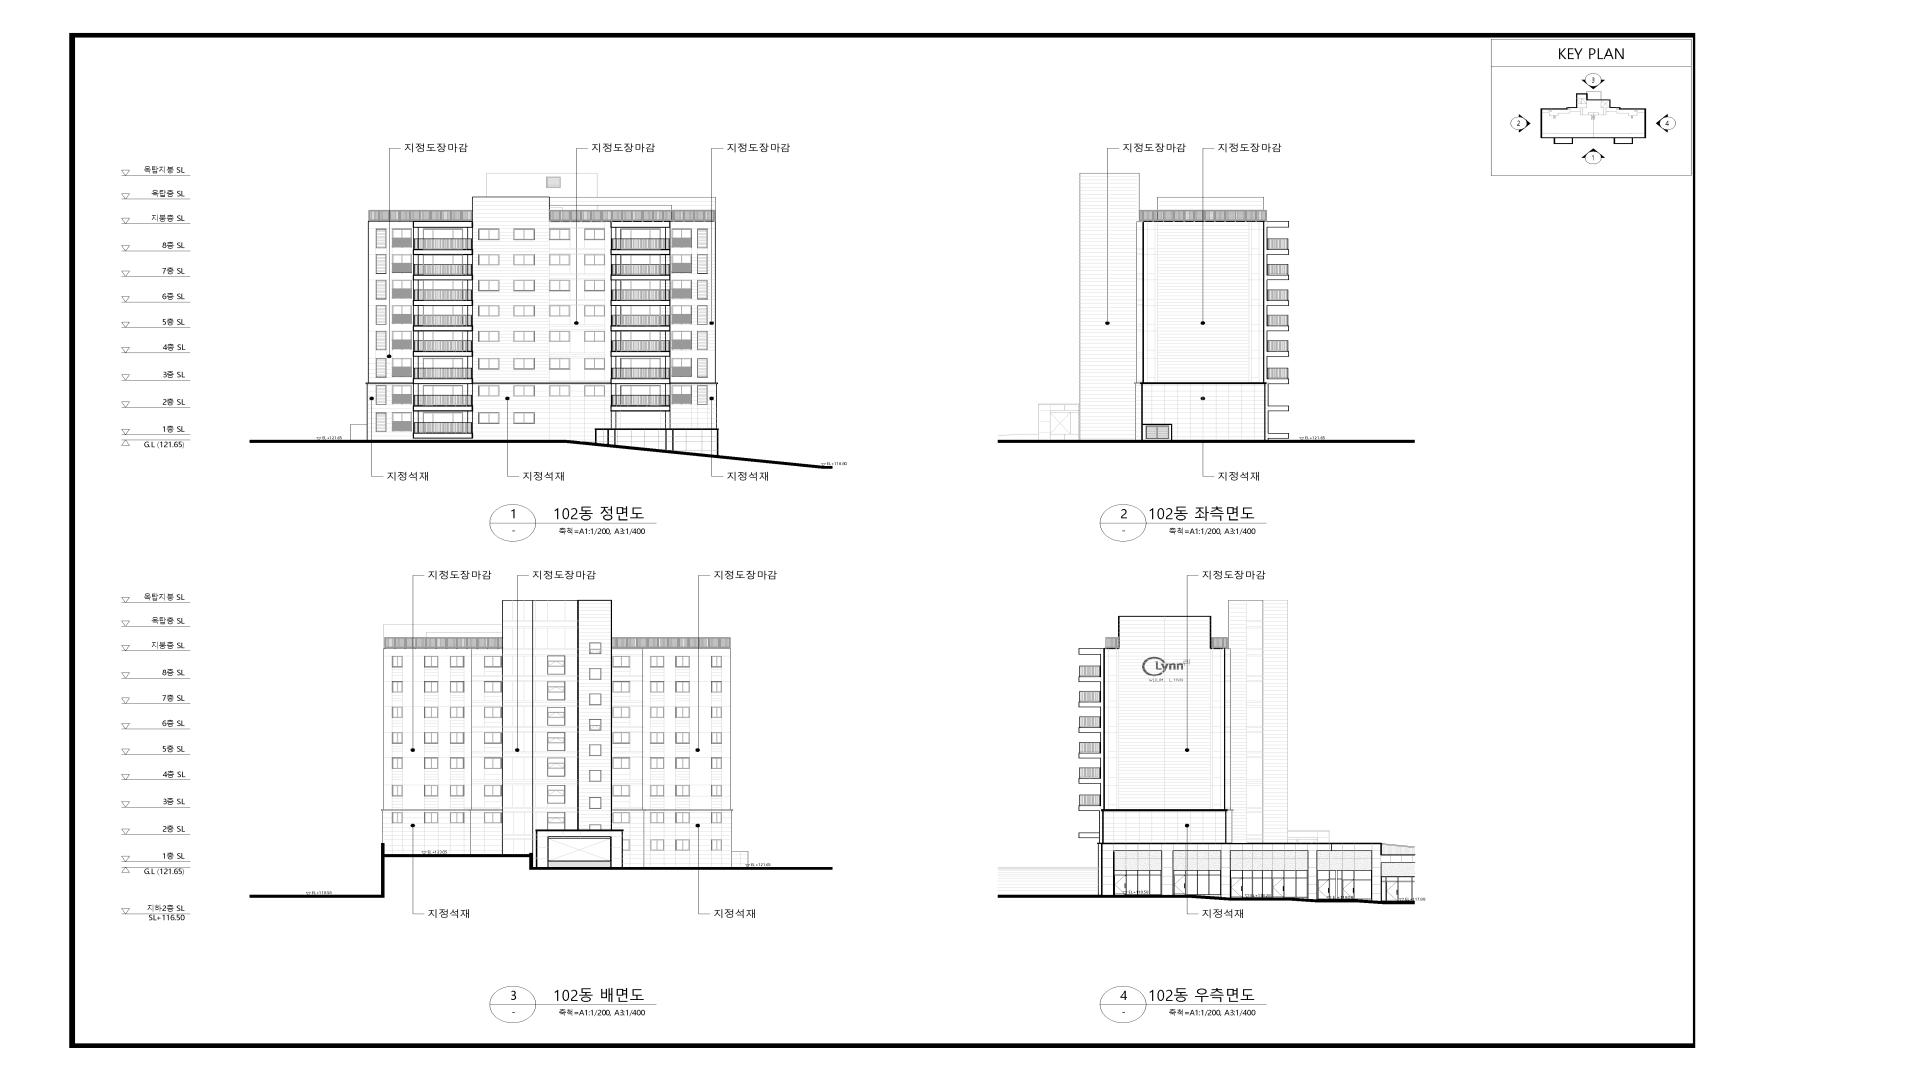door: (547, 836, 612, 868), (1172, 874, 1187, 895), (1113, 874, 1126, 895), (1230, 878, 1244, 898), (1273, 877, 1284, 898), (1317, 880, 1329, 899), (1342, 880, 1354, 899), (1386, 881, 1398, 901)
wall: (1079, 600, 1415, 905), (367, 173, 719, 459), (381, 600, 748, 870), (1038, 173, 1290, 443)
window: (620, 228, 661, 251), (620, 330, 661, 352), (620, 357, 661, 380), (620, 385, 661, 407), (423, 228, 463, 251), (423, 305, 463, 327), (423, 385, 463, 407), (621, 305, 661, 327), (620, 255, 661, 276), (620, 280, 661, 301), (423, 255, 463, 276), (423, 280, 463, 301), (423, 331, 463, 352), (423, 359, 463, 380), (423, 413, 463, 434), (671, 228, 692, 248), (392, 280, 413, 299), (671, 385, 692, 405), (392, 228, 411, 248), (392, 255, 413, 273), (392, 331, 413, 349), (392, 359, 413, 377), (671, 255, 692, 273), (671, 280, 692, 298), (671, 306, 692, 324), (671, 359, 692, 377), (547, 785, 566, 804), (392, 306, 411, 324), (392, 386, 411, 405), (392, 413, 411, 431), (671, 331, 691, 349), (547, 655, 566, 674), (547, 682, 566, 700), (547, 707, 566, 725), (547, 732, 566, 750), (547, 758, 566, 777), (547, 812, 566, 831), (1146, 426, 1170, 439), (584, 228, 605, 240), (550, 228, 571, 240), (479, 228, 500, 240), (514, 305, 535, 316), (479, 280, 500, 291), (479, 305, 500, 316), (479, 357, 500, 369), (514, 385, 535, 397), (584, 253, 605, 265), (584, 280, 605, 291), (584, 305, 605, 316), (584, 385, 605, 397), (550, 385, 571, 397), (550, 280, 571, 291), (514, 228, 534, 240), (514, 280, 534, 291), (514, 357, 534, 369), (479, 255, 498, 266), (479, 385, 498, 397), (550, 357, 570, 369), (514, 255, 535, 265), (514, 331, 535, 342), (479, 331, 500, 342), (479, 413, 500, 423), (584, 331, 605, 342), (584, 359, 605, 369), (550, 306, 571, 316), (550, 255, 571, 265), (612, 655, 630, 667), (484, 655, 502, 667), (612, 757, 630, 769), (612, 785, 630, 796), (612, 812, 630, 824), (484, 732, 502, 744), (484, 757, 502, 769), (484, 785, 502, 796), (484, 812, 502, 824), (698, 255, 708, 274), (698, 280, 708, 299), (698, 331, 708, 351), (698, 359, 708, 378), (698, 385, 708, 405), (698, 228, 708, 248), (376, 228, 386, 248), (376, 255, 386, 274), (376, 280, 386, 299), (376, 305, 386, 324), (376, 331, 386, 351), (376, 385, 386, 405), (376, 413, 386, 433), (514, 413, 534, 423), (550, 331, 570, 342), (613, 707, 630, 719), (613, 732, 630, 744), (484, 707, 501, 719), (698, 306, 708, 324), (612, 682, 630, 692), (484, 682, 502, 692), (376, 359, 386, 377), (546, 177, 560, 189), (450, 655, 464, 667), (675, 655, 690, 667), (650, 655, 665, 667), (675, 732, 690, 744), (675, 757, 690, 769), (650, 680, 665, 692), (650, 707, 665, 719), (650, 732, 665, 744), (650, 757, 665, 769), (675, 785, 690, 796), (675, 812, 690, 824), (650, 785, 665, 796), (650, 812, 665, 824), (450, 707, 464, 719), (450, 732, 464, 744), (450, 757, 464, 769), (425, 732, 439, 744), (450, 785, 464, 796), (450, 812, 464, 824), (423, 785, 438, 796), (425, 655, 438, 667), (675, 682, 690, 692), (675, 707, 690, 717), (675, 840, 690, 851), (650, 840, 665, 851), (450, 682, 464, 692), (425, 682, 439, 692), (425, 707, 439, 717), (423, 758, 438, 769), (423, 812, 438, 823), (711, 655, 723, 667), (589, 642, 601, 654), (589, 694, 601, 705), (589, 719, 601, 731), (589, 770, 601, 782), (392, 757, 404, 769), (392, 785, 404, 796), (711, 707, 723, 719), (711, 732, 723, 744), (711, 785, 723, 796), (711, 812, 723, 824), (392, 655, 402, 667), (589, 669, 601, 679), (589, 745, 601, 756), (589, 798, 601, 808), (392, 707, 402, 719), (392, 732, 402, 744), (392, 812, 402, 824), (711, 682, 723, 692), (711, 758, 723, 769), (711, 839, 721, 851), (392, 682, 402, 692)
